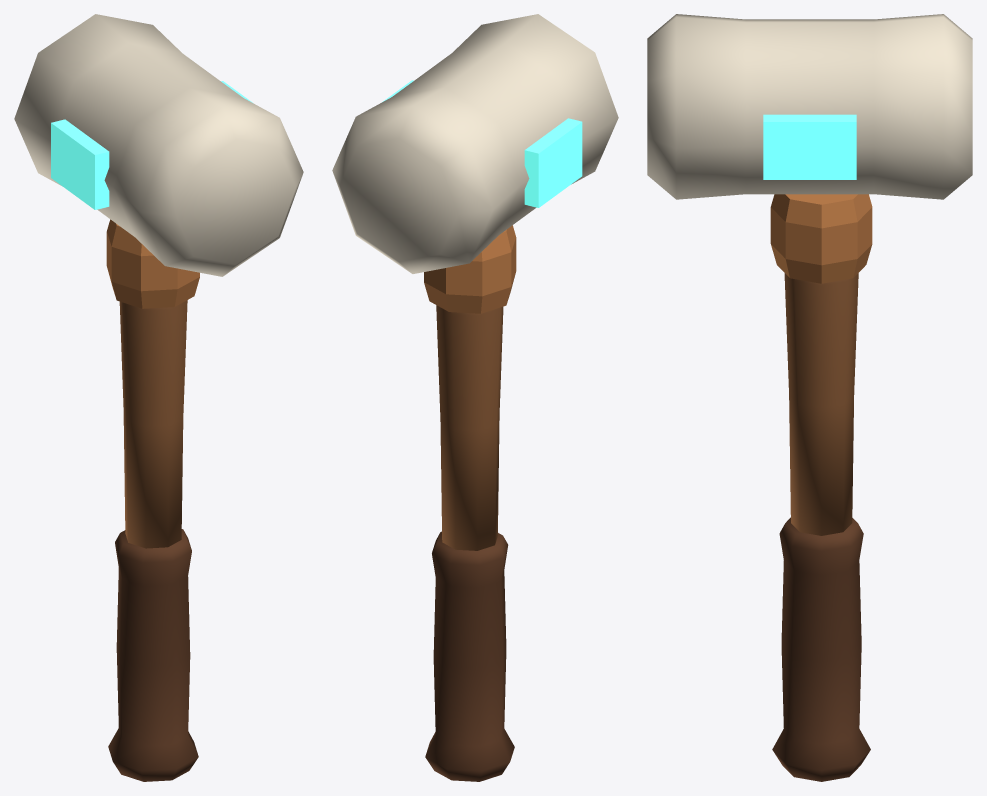
Rendered from StarterCracker.fbx.
3 views of the same model, side by side, from view 1: azimuth 30°, elevation 25°; view 2: azimuth 150°, elevation 25°; view 3: azimuth 270°, elevation 25° (orthographic). The views are drawn at different scales.
Visible parts, largest first — view 1: Head, Grip, Handle, Band, Accent; view 2: Head, Grip, Handle, Band, Accent; view 3: Head, Grip, Handle, Band, Accent.
Boxes of the visible parts, x1,y1,x2,y2 form: Head: (14,14,303,276); Grip: (108,529,198,781); Handle: (119,300,187,548); Band: (106,219,199,308); Accent: (51,81,253,209); Head: (332,14,618,273); Grip: (425,531,514,781); Handle: (436,305,503,550); Band: (424,225,516,313); Accent: (382,80,582,207); Head: (647,14,972,199); Grip: (772,517,870,781); Handle: (784,273,858,535); Band: (770,194,872,283); Accent: (763,114,856,179).
Bounding box in the file's own units: 0.72 × 2.84 × 1.12.
